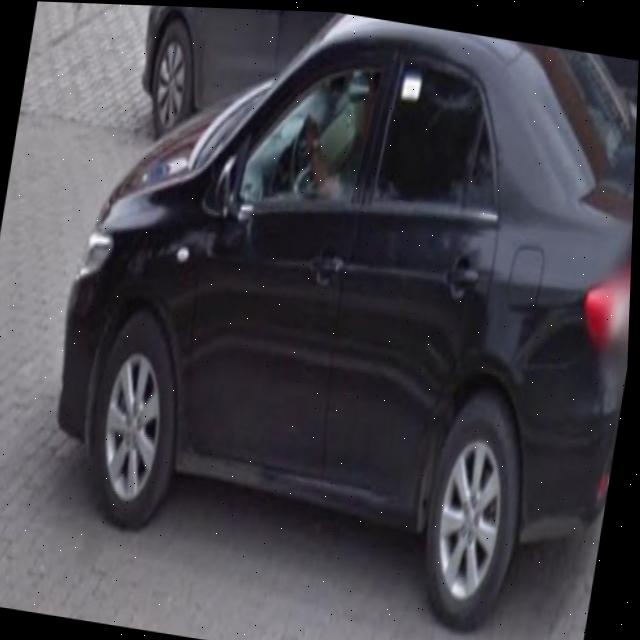vehicle: (20, 1, 640, 640)
